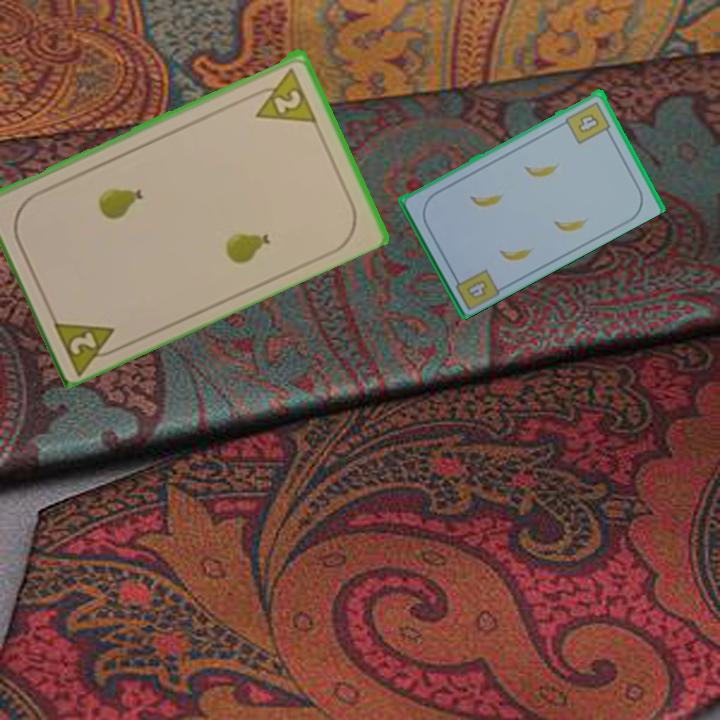2p: (49, 314, 127, 376), (245, 63, 319, 125)
4b: (562, 97, 614, 147), (449, 265, 502, 311)
